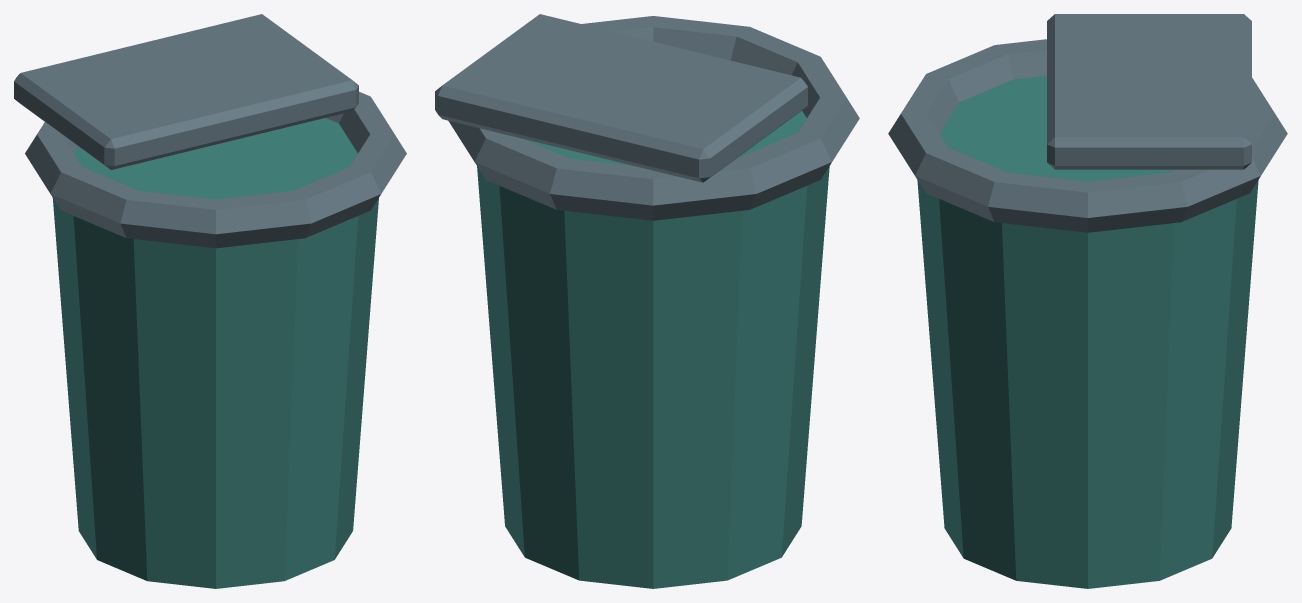
File: props-bin.lod0.glb
3 views of the same model, side by side, from view 1: azimuth 30°, elevation 25°; view 2: azimuth 150°, elevation 25°; view 3: azimuth 270°, elevation 25° (orthographic). The views are drawn at different scales.
Visible parts, largest first — view 1: props-bin__body; view 2: props-bin__body; view 3: props-bin__body.
Part boxes in pixels (bbox=[...]): props-bin__body: bbox=[14, 14, 406, 588]; props-bin__body: bbox=[435, 14, 859, 588]; props-bin__body: bbox=[888, 14, 1287, 588].
Size of the model in its own units: 0.78 by 0.975 by 0.78.
